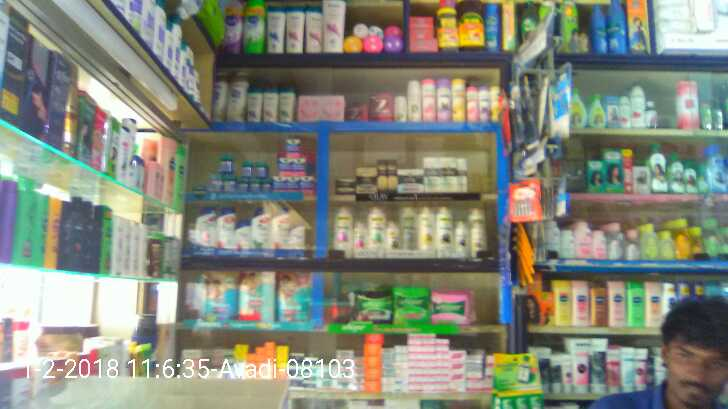vicks: (208, 138, 316, 194)
